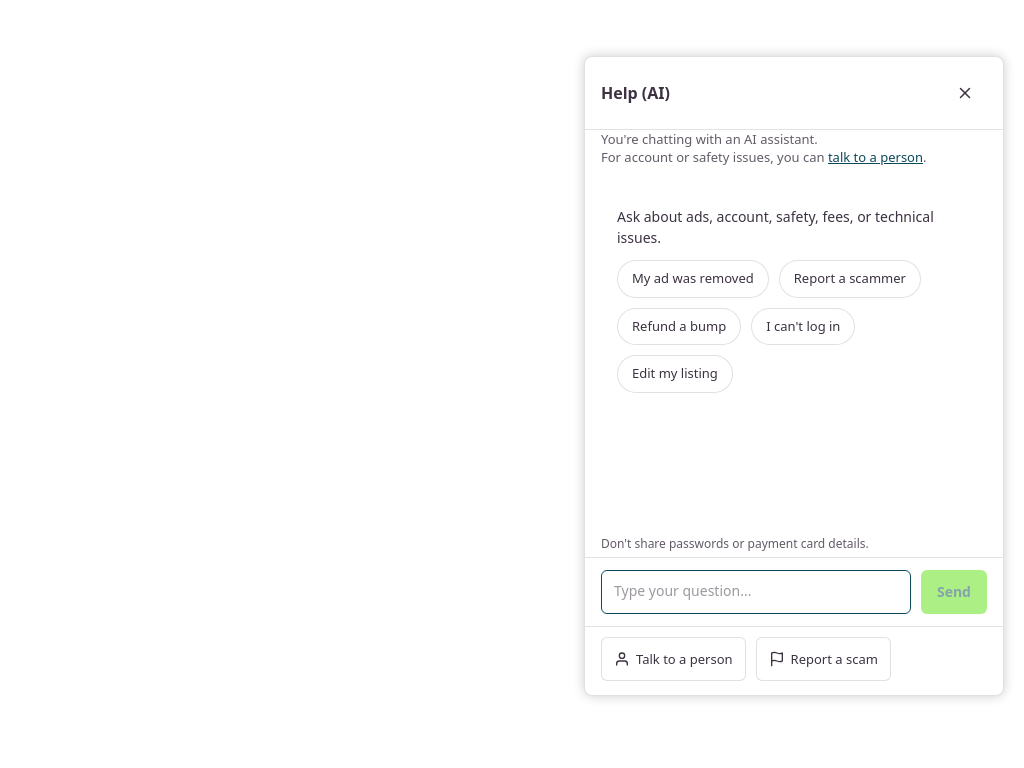
HelpPanel › shows welcome card prompt chips that populate the composer
The width and height of the screenshot is (1024, 768).
Note: Click a chip
Click the button "My ad was removed". click: (693, 279)
box: [617, 260, 769, 298]
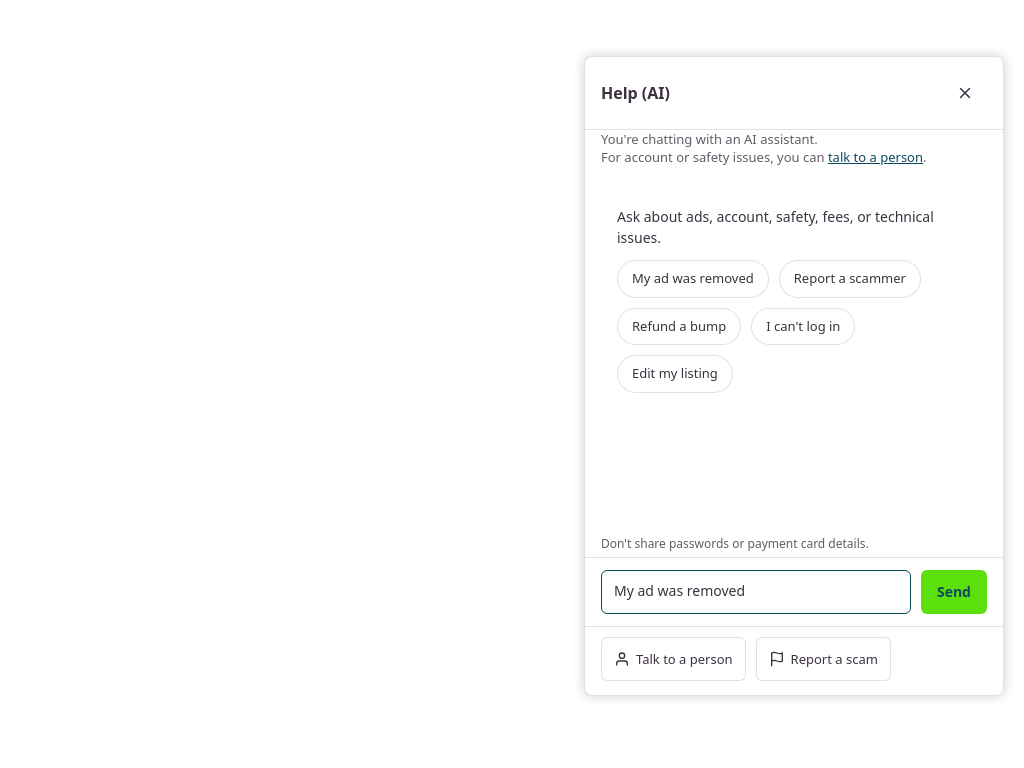
Check: the text box with placeholder "Type your question..." holds "My ad was removed", box [601, 570, 911, 614]
